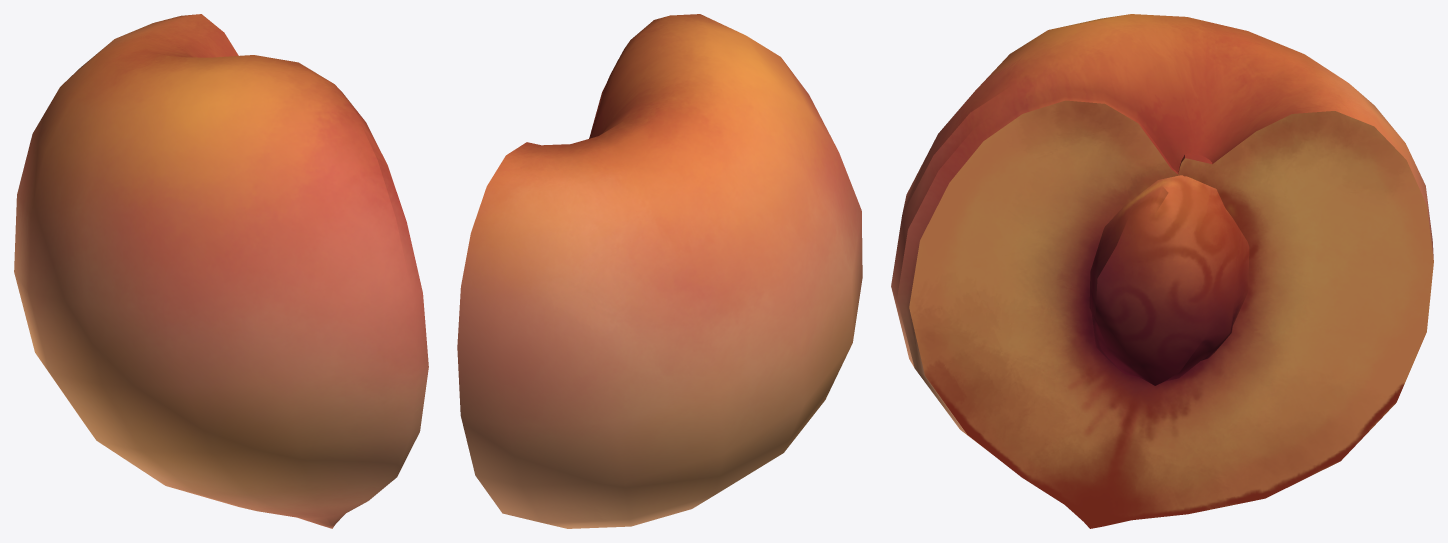
The model's file is Ingrediente_PeachMitad_L.fbx.
3 views of the same model, side by side, from view 1: azimuth 30°, elevation 25°; view 2: azimuth 150°, elevation 25°; view 3: azimuth 270°, elevation 25° (orthographic). The views are drawn at different scales.
Parts seen in each view (by area): view 1: m_PeachMitad_02; view 2: m_PeachMitad_02; view 3: m_PeachMitad_02.
Part boxes in pixels (box(x1,y1,x2,y2)): m_PeachMitad_02: box(14, 14, 428, 528); m_PeachMitad_02: box(457, 14, 862, 528); m_PeachMitad_02: box(891, 14, 1433, 528).
Size of the model in its own units: 22.93 by 36.73 by 38.67.
